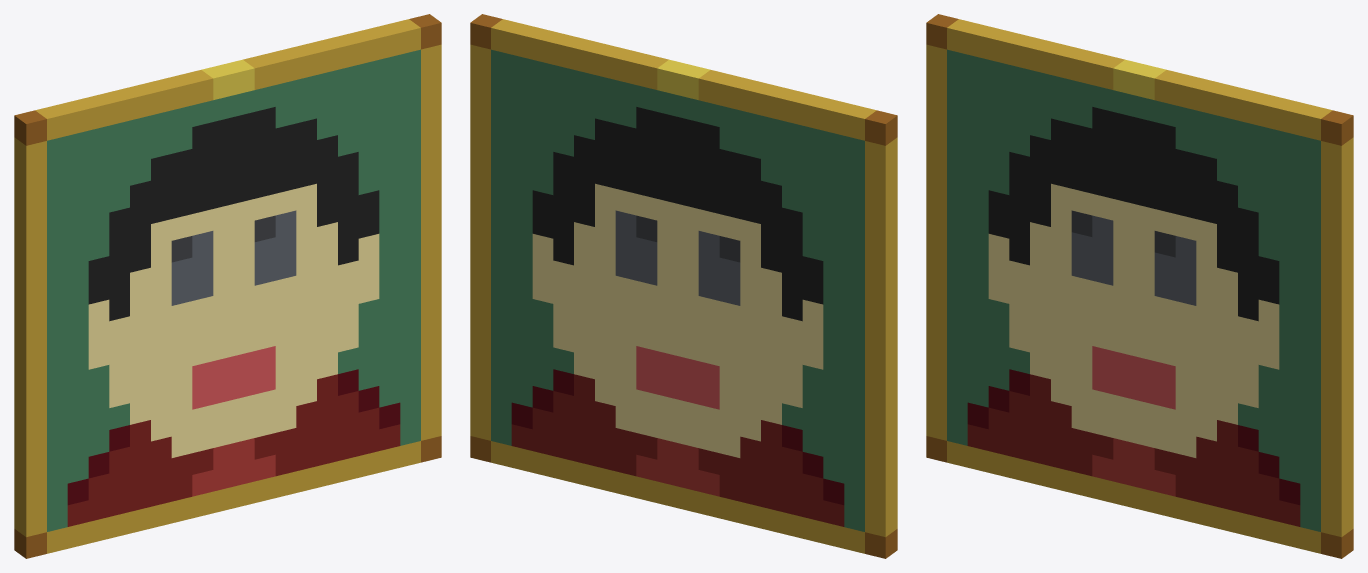
The model's file is portrait3.obj.
3 views of the same model, side by side, from view 1: azimuth 30°, elevation 25°; view 2: azimuth 150°, elevation 25°; view 3: azimuth 330°, elevation 25° (orthographic).
Bounding box in the file's own units: 2 × 2 × 0.1.
Materials: 1 (1 with a texture image).
